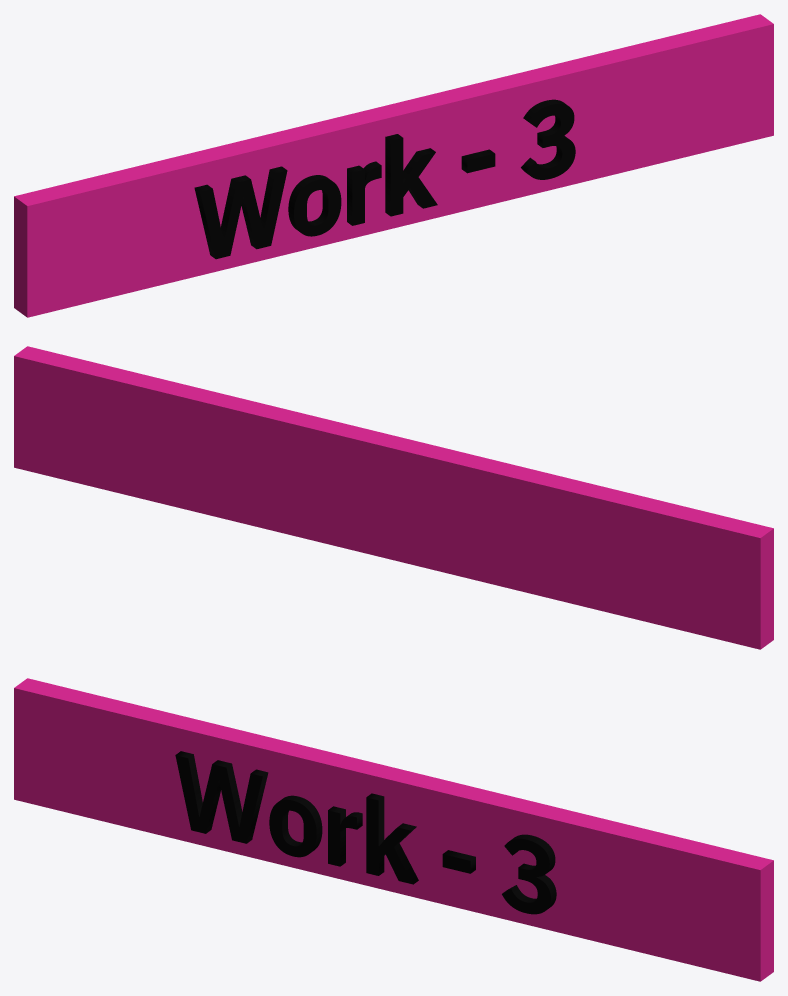
Rendered from tag_3.glb.
3 renders of one model, top to bottom at view 1: azimuth 30°, elevation 25°; view 2: azimuth 150°, elevation 25°; view 3: azimuth 330°, elevation 25°, orthographic.
Visible parts, largest first — view 1: Plane.006, Text.012; view 2: Plane.006; view 3: Plane.006, Text.012.
Boxes of the visible parts, x1=… form: Plane.006: x1=14, y1=14, x2=773, y2=317; Text.012: x1=194, y1=99, x2=575, y2=259; Plane.006: x1=14, y1=346, x2=773, y2=649; Plane.006: x1=14, y1=678, x2=773, y2=981; Text.012: x1=175, y1=751, x2=556, y2=914.
Bounding box in the file's own units: 0.7 × 0.1 × 0.0309.
